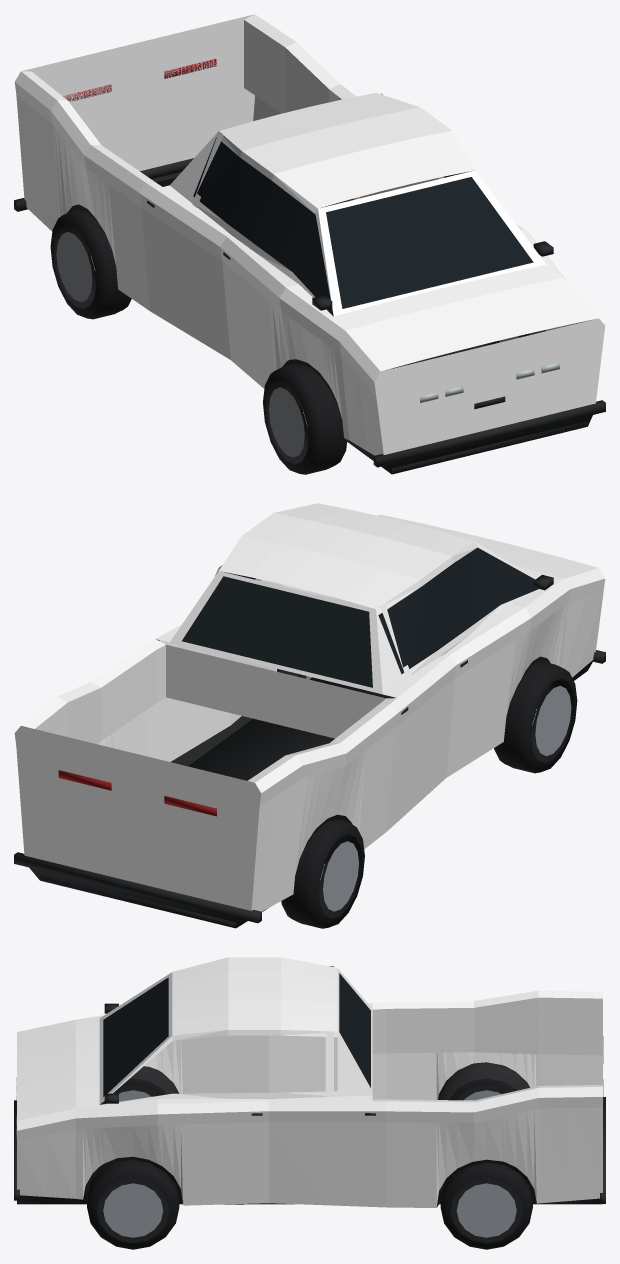
The model's file is bancroft_pedreira.glb.
3 renders of one model, top to bottom at view 1: azimuth 30°, elevation 25°; view 2: azimuth 150°, elevation 25°; view 3: azimuth 270°, elevation 25°, orthographic. The views are drawn at different scales.
Visible parts, largest first — view 1: Body_Paint, Body_Details, Mount_FrontLeft_Wheel_Details, Mount_RearLeft_Wheel_Details; view 2: Body_Paint, Body_Details, Mount_FrontLeft_Wheel_Details, Mount_RearLeft_Wheel_Details; view 3: Body_Paint, Body_Details, Mount_FrontRight_Wheel_Details, Mount_RearRight_Wheel_Details, Mount_RearLeft_Wheel_Details, Mount_FrontLeft_Wheel_Details.
Boxes of the visible parts, bbox=[...] form: Body_Paint: bbox=[14, 14, 605, 455]; Body_Details: bbox=[14, 59, 605, 474]; Mount_FrontLeft_Wheel_Details: bbox=[263, 363, 347, 474]; Mount_RearLeft_Wheel_Details: bbox=[50, 209, 131, 319]; Body_Paint: bbox=[14, 503, 605, 911]; Body_Details: bbox=[14, 547, 605, 928]; Mount_FrontLeft_Wheel_Details: bbox=[494, 661, 577, 773]; Mount_RearLeft_Wheel_Details: bbox=[281, 818, 364, 928]; Body_Paint: bbox=[17, 957, 602, 1207]; Body_Details: bbox=[14, 973, 605, 1207]; Mount_FrontRight_Wheel_Details: bbox=[87, 1160, 179, 1249]; Mount_RearRight_Wheel_Details: bbox=[440, 1162, 532, 1249]; Mount_RearLeft_Wheel_Details: bbox=[449, 1078, 516, 1100]; Mount_FrontLeft_Wheel_Details: bbox=[100, 1078, 166, 1104].
Size of the model in its own units: 2.33 by 2.07 by 5.38.
2 materials, 1 textured.
